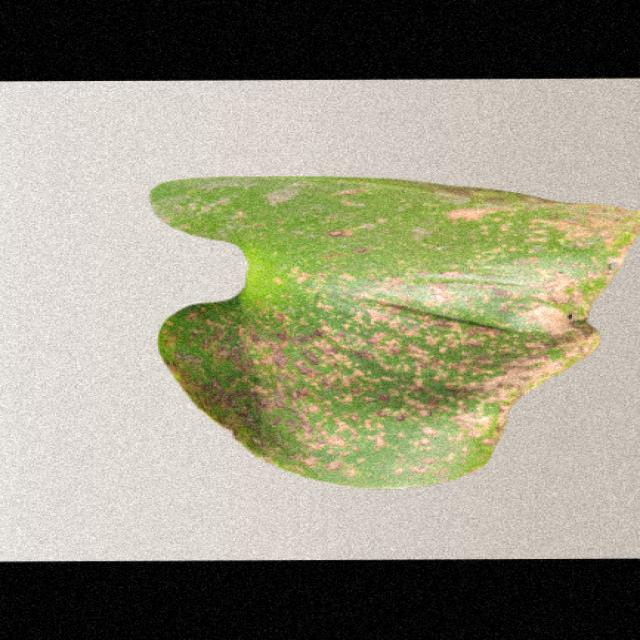daun berpenyakit bercak: (150, 178, 636, 488)
